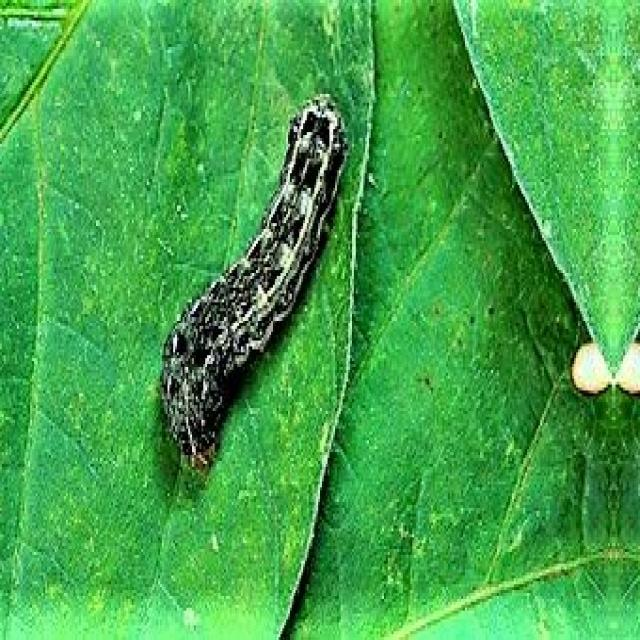Armyworm: (163, 83, 349, 489)
